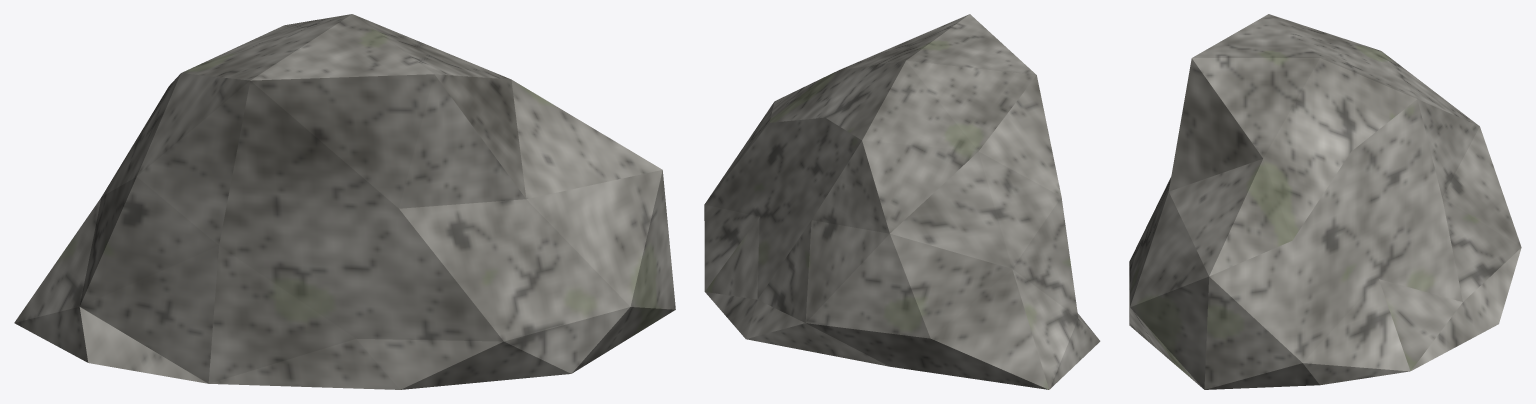
The model's file is kamen_stredni.glb.
3 renders of one model, left to right at view 1: azimuth 30°, elevation 25°; view 2: azimuth 150°, elevation 25°; view 3: azimuth 270°, elevation 25°, orthographic. The views are drawn at different scales.
Parts seen in each view (by area): view 1: kamen; view 2: kamen; view 3: kamen.
Part boxes in pixels (left/top/right/bottom): kamen: left=14, top=14, right=675, bottom=389; kamen: left=704, top=14, right=1100, bottom=389; kamen: left=1129, top=14, right=1521, bottom=389.
Size of the model in its own units: 2.2 by 1.2 by 1.8.
Materials: 1 (1 with a texture image).
